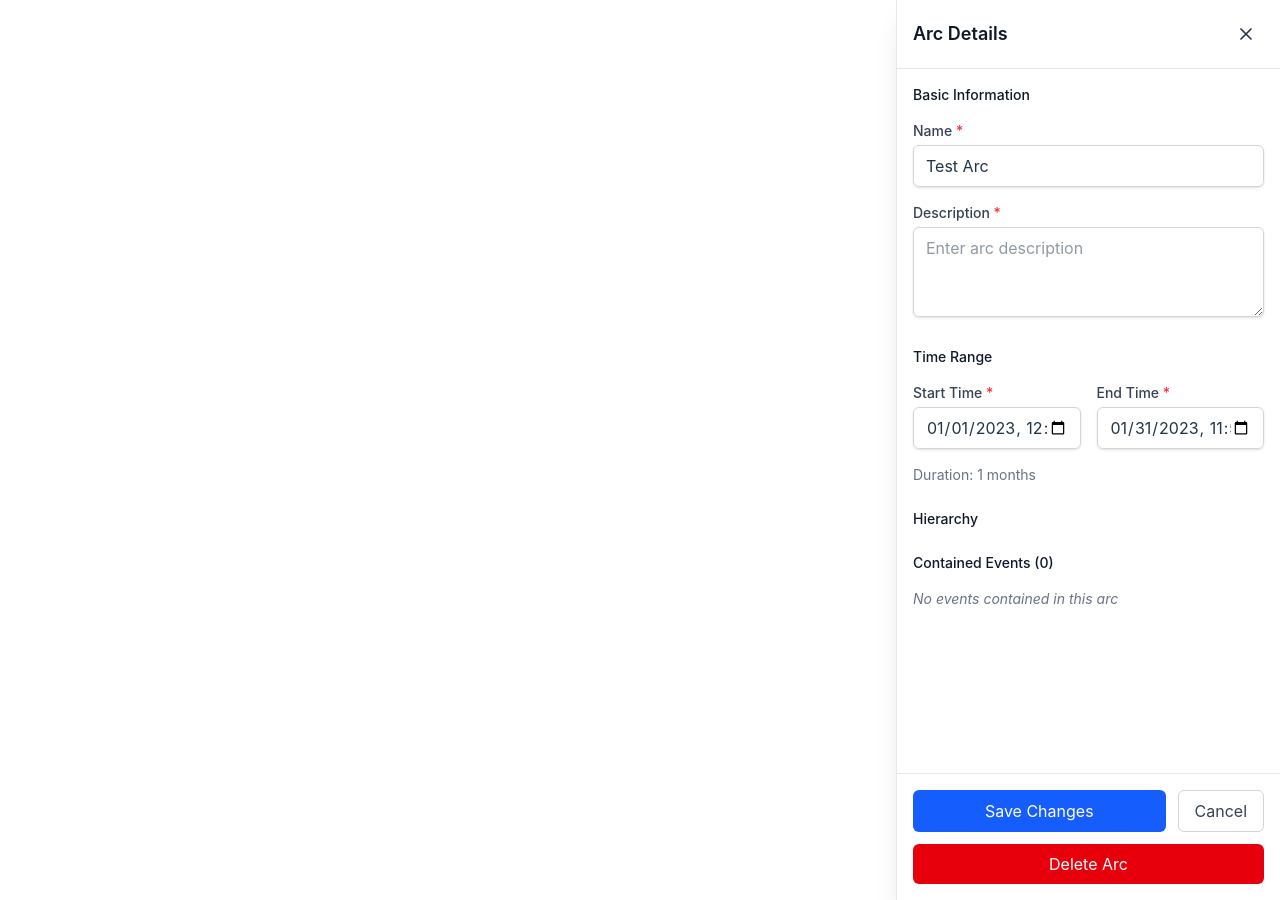
it: ArcDetailPanel › Validation › shows validation error for empty description
The image size is (1280, 900).
Click the button "Save Changes" at [1039, 811], box [913, 790, 1166, 832]
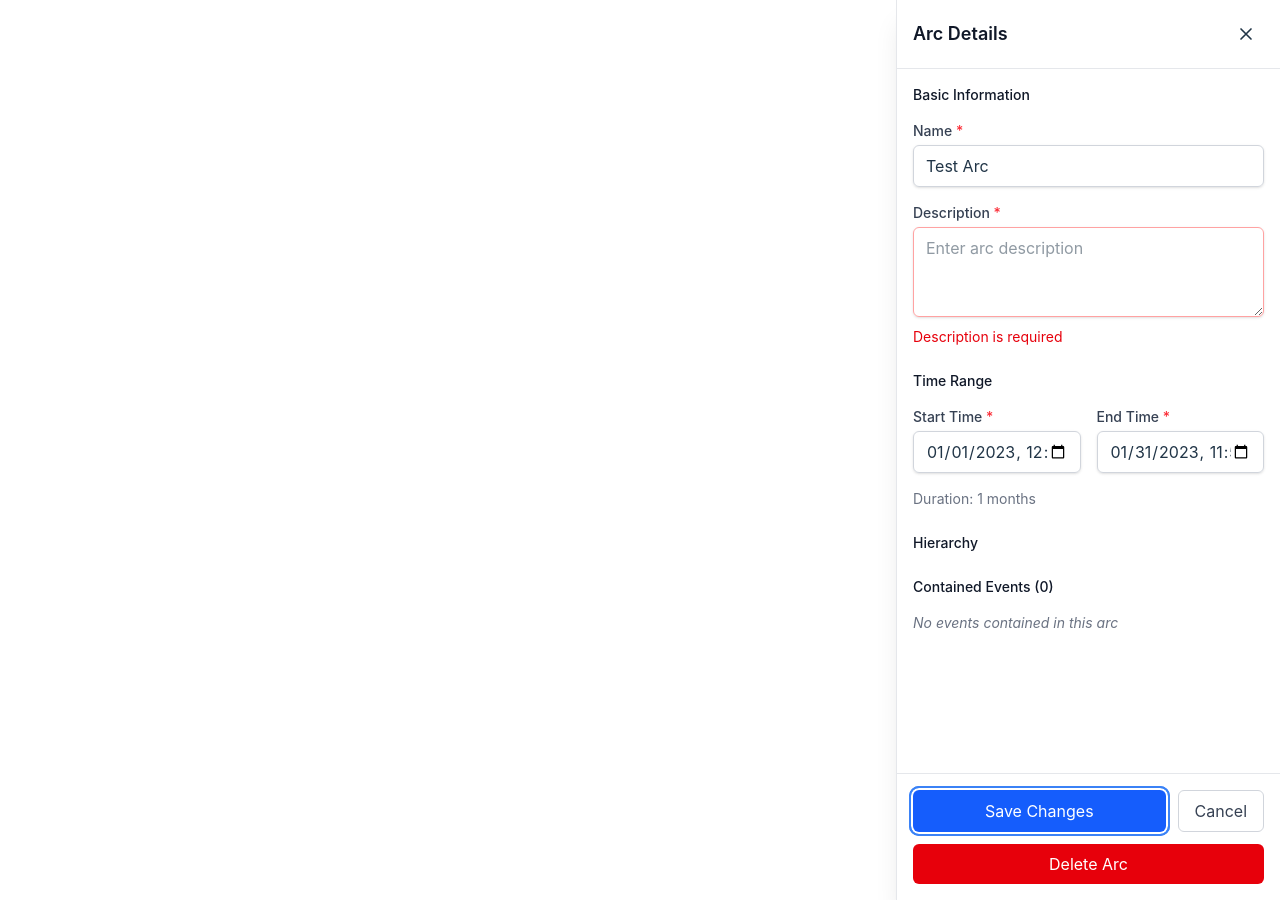
Expected: the text "Description is required" is shown, [913, 328, 1062, 345]
